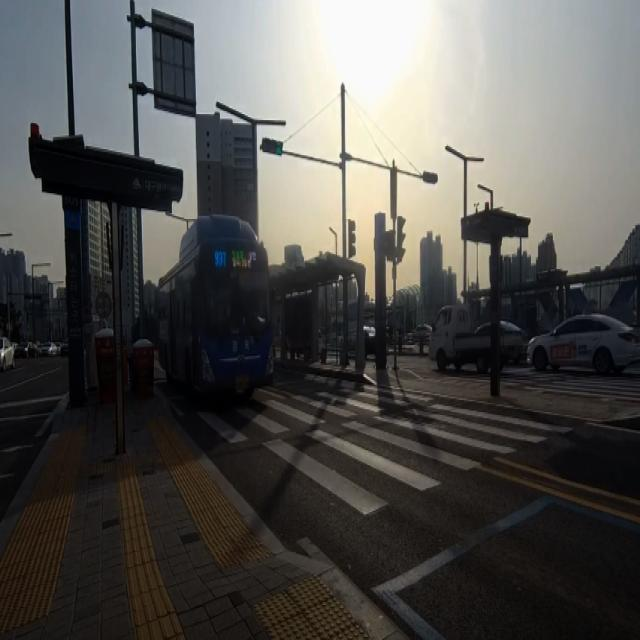bus-number: (214, 250, 227, 269)
